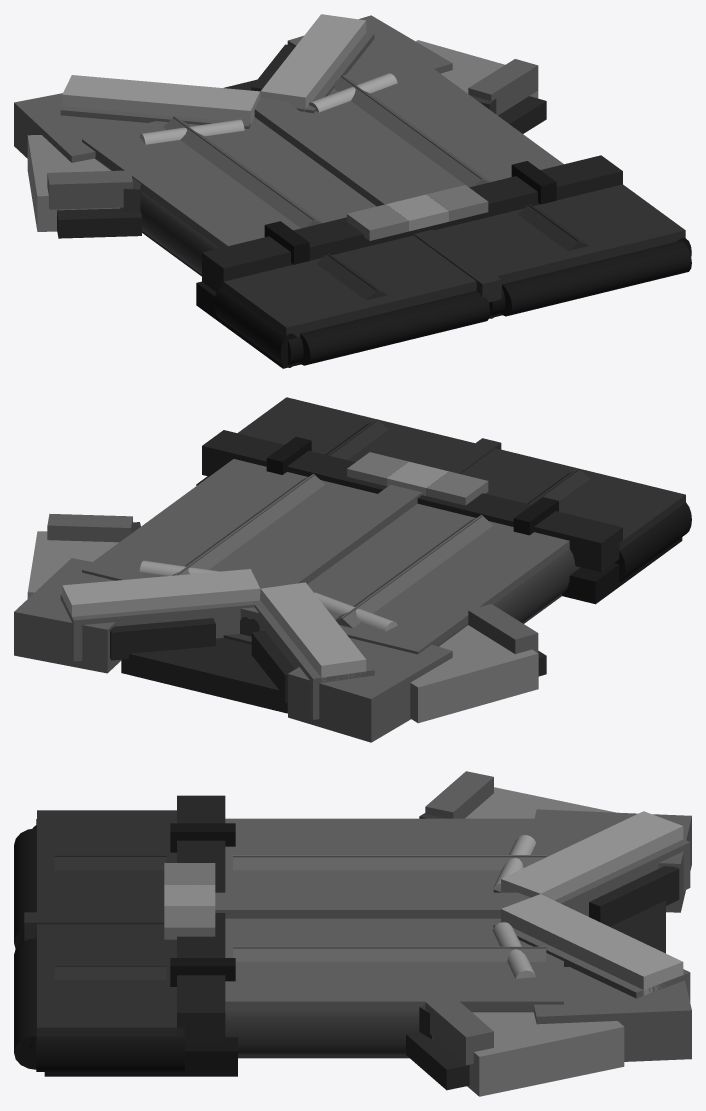
Rendered from CMU3DRMCJumpsuitLiaisonGreyWorkwearWorldCloud.glb.
The picture shows the model from 3 angles, top to bottom: view 1: azimuth 30°, elevation 25°; view 2: azimuth 150°, elevation 25°; view 3: azimuth 270°, elevation 25°; orthographic projection. The views are drawn at different scales.
Visible parts, largest first — view 1: left shirt front continuous cloth panel, right shirt front continuous cloth panel, left folded trouser panel continuous cloth panel, right folded trouser panel continuous cloth panel, continuous attached waist belt, left turned collar face, right turned trouser hem, left turned trouser hem, continuous center button placket, right turned collar face, original small waist clasp, left continuous shoulder cloth (+24 smaller); view 2: left shirt front continuous cloth panel, right shirt front continuous cloth panel, continuous attached waist belt, left continuous shoulder cloth, left folded trouser panel continuous cloth panel, left sloping sleeve cloth, right folded trouser panel continuous cloth panel, recessed inner neck facing, right turned collar face, right continuous shoulder cloth, left turned collar face, continuous center button placket (+22 smaller); view 3: right shirt front continuous cloth panel, left shirt front continuous cloth panel, right folded trouser panel continuous cloth panel, left folded trouser panel continuous cloth panel, right sloping sleeve cloth, right shirt front right turned edge, right continuous shoulder cloth, continuous center button placket, continuous attached waist belt, right turned collar face, left turned collar face, right folded trouser panel right turned edge (+25 smaller).
Boxes of the visible parts, x1,y1,x2,y2 form: left shirt front continuous cloth panel: (82, 117, 376, 247); right shirt front continuous cloth panel: (300, 57, 563, 196); left folded trouser panel continuous cloth panel: (220, 235, 476, 363); right folded trouser panel continuous cloth panel: (434, 184, 685, 314); continuous attached waist belt: (202, 155, 622, 291); left turned collar face: (62, 75, 260, 124); right turned trouser hem: (501, 241, 691, 316); left turned trouser hem: (299, 291, 490, 365); continuous center button placket: (254, 98, 416, 206); right turned collar face: (260, 14, 366, 111); original small waist clasp: (347, 185, 488, 240); left continuous shoulder cloth: (14, 93, 146, 162); left shirt front continuous cloth panel: (250, 503, 569, 654); right shirt front continuous cloth panel: (82, 459, 377, 619); continuous attached waist belt: (202, 430, 622, 572); left continuous shoulder cloth: (288, 638, 452, 742); left folded trouser panel continuous cloth panel: (460, 448, 685, 550); left sloping sleeve cloth: (410, 625, 538, 723); right folded trouser panel continuous cloth panel: (237, 397, 474, 468); recessed inner neck facing: (121, 638, 287, 713); right turned collar face: (62, 569, 260, 616); right continuous shoulder cloth: (14, 558, 121, 673); left turned collar face: (260, 582, 366, 682); continuous center button placket: (257, 484, 421, 600); right shirt front continuous cloth panel: (225, 918, 563, 1010); left shirt front continuous cloth panel: (225, 818, 563, 892); right folded trouser panel continuous cloth panel: (37, 924, 184, 1036); left folded trouser panel continuous cloth panel: (37, 810, 176, 912); right sloping sleeve cloth: (467, 1012, 624, 1096); right shirt front right turned edge: (225, 1010, 533, 1054); right continuous shoulder cloth: (533, 967, 691, 1061); continuous center button placket: (215, 892, 530, 918); continuous attached waist belt: (177, 795, 225, 1045); right turned collar face: (501, 894, 683, 995); left turned collar face: (501, 811, 683, 900); right folded trouser panel right turned edge: (36, 1032, 184, 1071).
Bounding box in the file's own units: 0.3961 × 0.05 × 0.4159.
9 materials, 1 textured.
